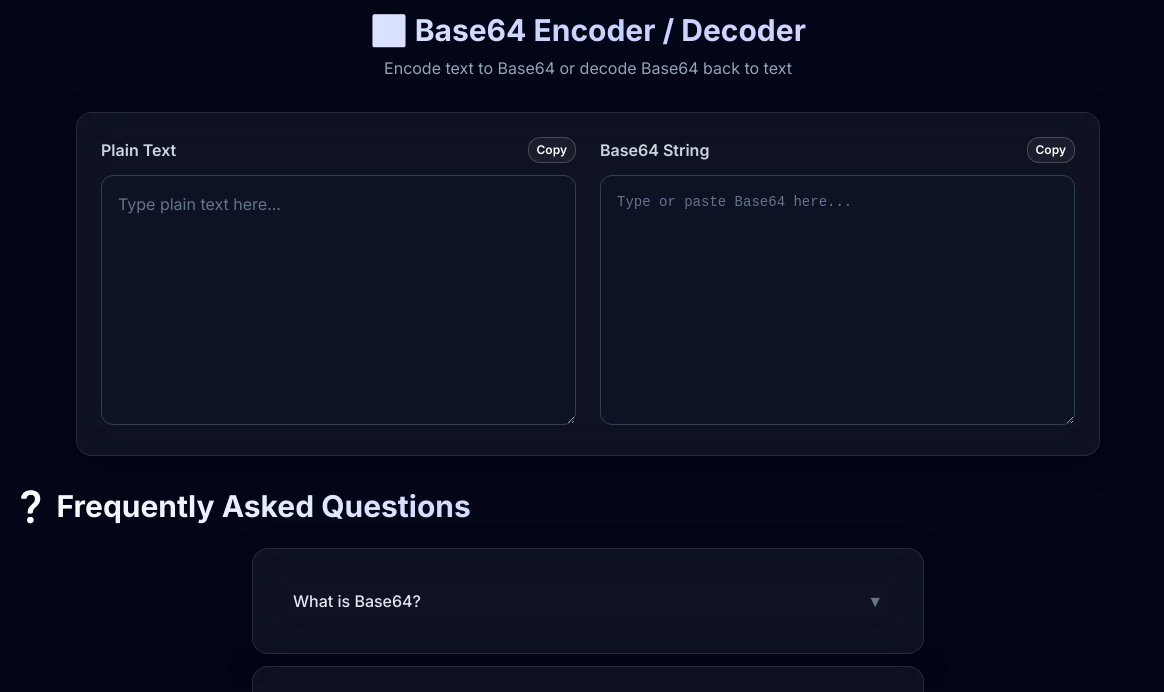
Test: Base64 Encoder/Decoder › encodes text to base64
Type "hello" into the text box with placeholder "Type plain text here..." at (338, 300), box top-left (101, 175), bottom-right (576, 425)
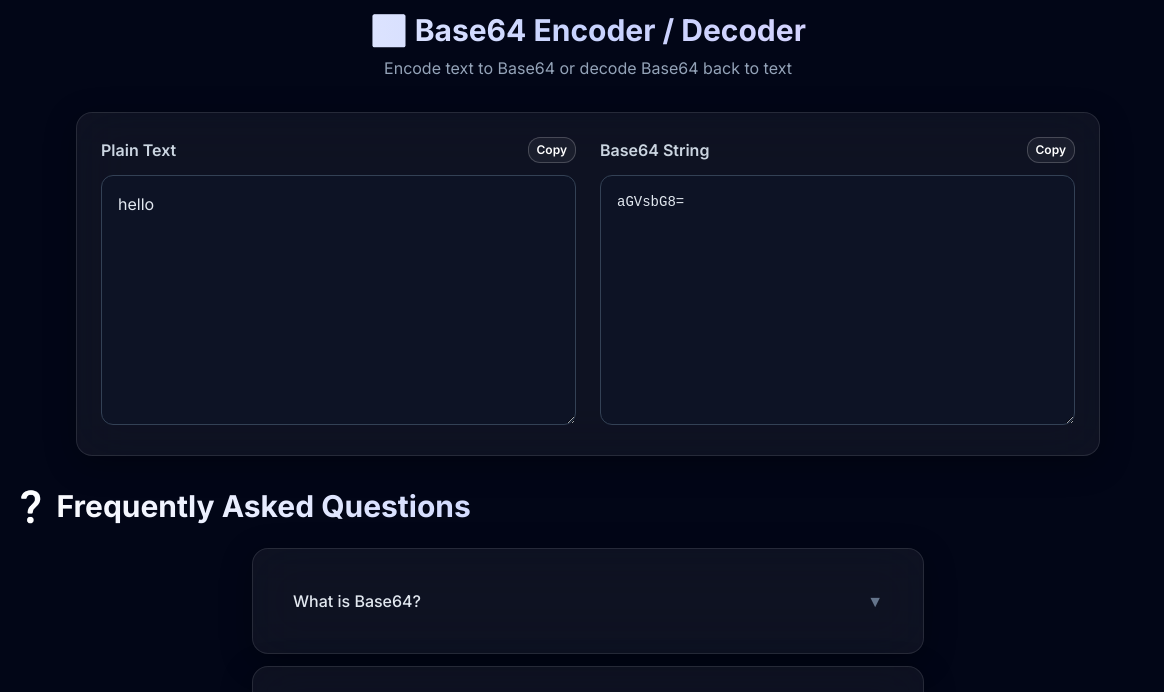
Check: the text box with placeholder "Type or paste Base64 here..." below "Base64 String" holds "aGVsbG8=", box top-left (600, 175), bottom-right (1075, 425)
